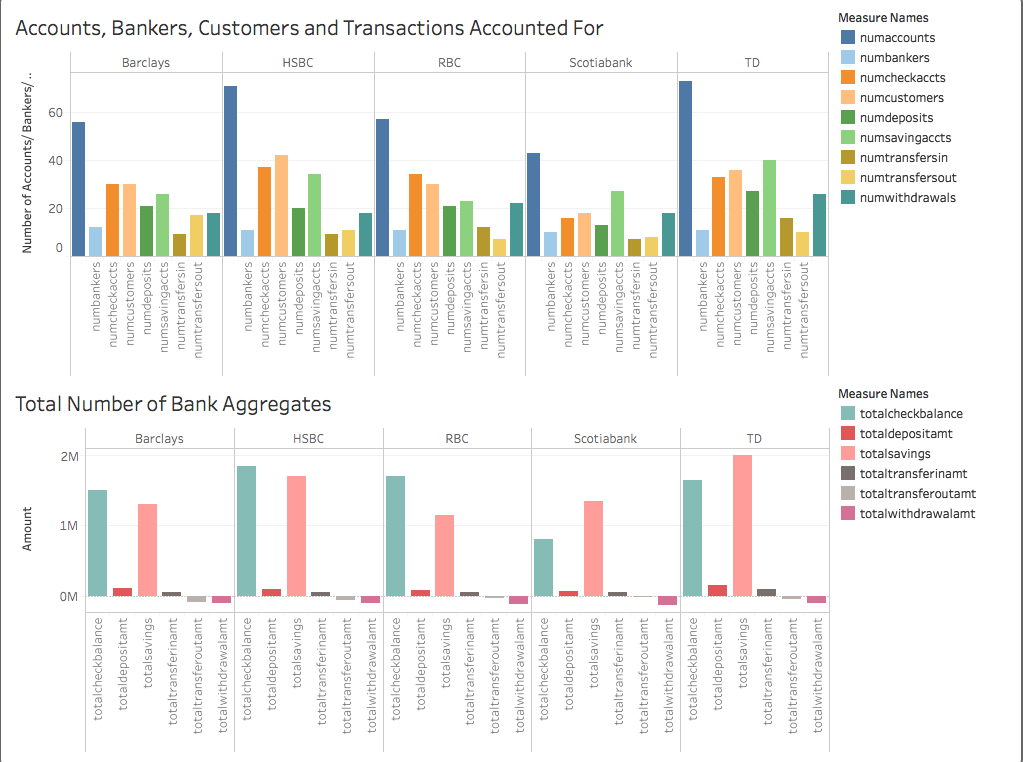

Layout of this report page (visuals, bound fields, positions):
{"tool":"tableau","page":{"name":"BankStats_Dashboard","canvas":[1000,1000],"units":"permille","ordinal":0},"visuals":[{"type":"worksheet","title":"number_bankstats","mark":"Automatic","cols":["nameb"],"box":[7.8,10.4,807.3,489.6]},{"type":"legend","title":"number_bankstats","param":"[federated.0fhobw71k6exua1g96oc70mfxvgn].[:Measure Names]","box":[815.1,10.4,177.1,268.2]},{"type":"worksheet","title":"sum_bankstats","mark":"Automatic","cols":["nameb"],"box":[7.8,500,807.3,489.6]},{"type":"legend","title":"sum_bankstats","param":"[federated.0fhobw71k6exua1g96oc70mfxvgn].[:Measure Names]","box":[815.1,500,177.1,489.6]}]}

Visuals, with their boxes on the dashboard's canvas, which has no fixed pixel size, in thousandths of its width and height (x1, y1, x2, y2). These are canvas units, not pixel positions in the 1023x762 screenshot, which may show the page scaled, cropped or inside an application window:
"number_bankstats" worksheet: [8, 10, 815, 500]
"number_bankstats" legend: [815, 10, 992, 279]
"sum_bankstats" worksheet: [8, 500, 815, 990]
"sum_bankstats" legend: [815, 500, 992, 990]
